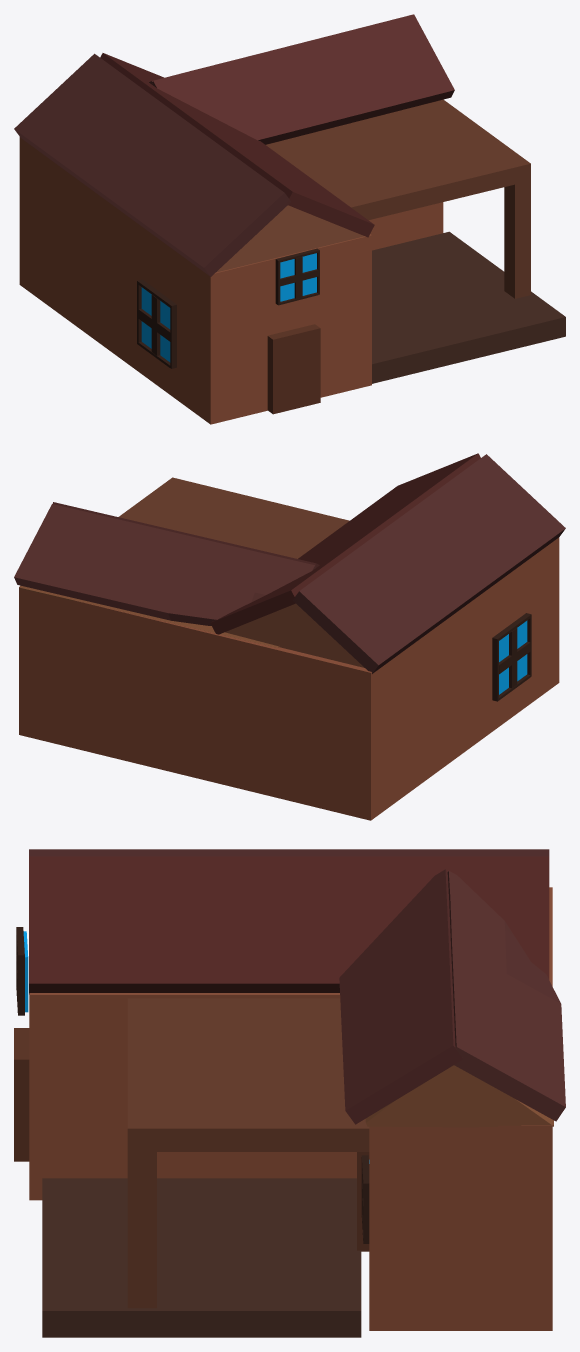
The model's file is casa  tipo 2 con ventanas.fbx.
The picture shows the model from 3 angles, top to bottom: view 1: azimuth 30°, elevation 25°; view 2: azimuth 150°, elevation 25°; view 3: azimuth 270°, elevation 25°; orthographic projection. The views are drawn at different scales.
Parts seen in each view (by area): view 1: Cube, Cube.002, Cube.007, Cube.009, Cube.008, Cube.003, Cube.014, Cube.004, Cube.011, Cube.012, Cube.013, Cube.010; view 2: Cube, Cube.002, Cube.006, Cube.009, Cube.003, Cube.004, Cube.011, Cube.005, Cube.010, Cube.007; view 3: Cube, Cube.003, Cube.008, Cube.009, Cube.007, Cube.006, Cube.005, Cube.002, Cube.014, Cube.012, Cube.016, Cube.001.
Part boxes in pixels (x1,y1,x2,y2): Cube: (19,137,443,424); Cube.002: (14,53,290,276); Cube.007: (152,14,454,144); Cube.009: (266,99,530,298); Cube.008: (372,231,565,383); Cube.003: (100,53,374,237); Cube.014: (267,324,320,414); Cube.004: (217,205,364,272); Cube.011: (137,279,176,368); Cube.012: (275,248,319,305); Cube.013: (280,253,316,301); Cube.010: (141,287,170,362); Cube: (19,537,559,820); Cube.002: (293,454,565,673); Cube.006: (14,504,315,625); Cube.009: (118,477,349,558); Cube.003: (210,453,480,634); Cube.004: (225,603,364,667); Cube.011: (492,613,531,701); Cube.005: (19,585,279,647); Cube.010: (499,620,527,694); Cube.007: (52,502,319,567); Cube: (29,887,552,1330); Cube.003: (29,856,549,994); Cube.008: (42,1178,361,1337); Cube.009: (127,998,369,1308); Cube.007: (339,869,463,1124); Cube.006: (447,871,565,1121); Cube.005: (365,1065,553,1127); Cube.002: (29,849,549,856); Cube.014: (14,1028,29,1161); Cube.012: (16,927,24,1015); Cube.016: (361,1155,369,1243); Cube.001: (357,1152,369,1251).
Size of the model in its own units: 1342 by 760 by 1278.
